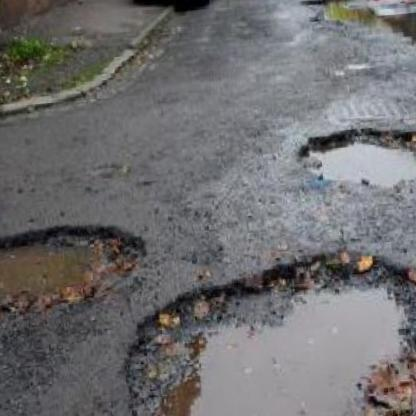pothole: (103, 226, 416, 416), (0, 212, 154, 330), (292, 110, 416, 205), (301, 0, 393, 32), (386, 0, 416, 55)
